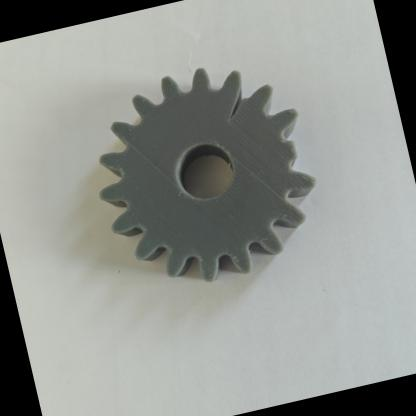defect: (196, 56, 288, 152), (270, 110, 340, 186)
gear: (38, 29, 368, 330)
